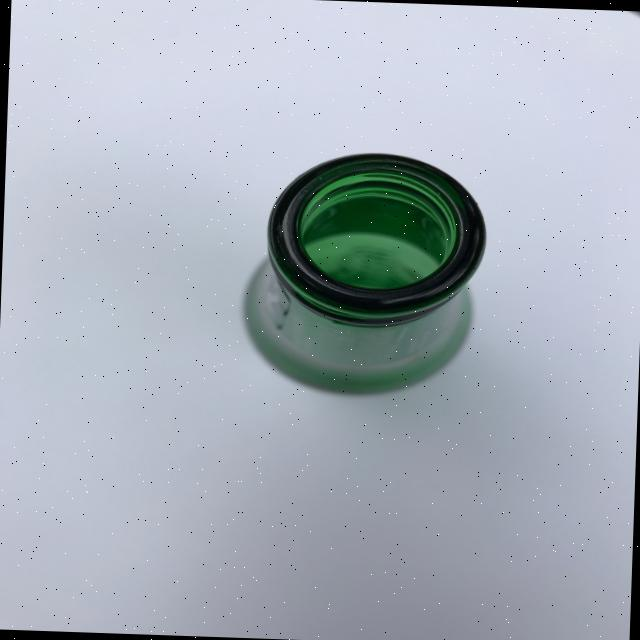glass: (238, 146, 489, 398)
